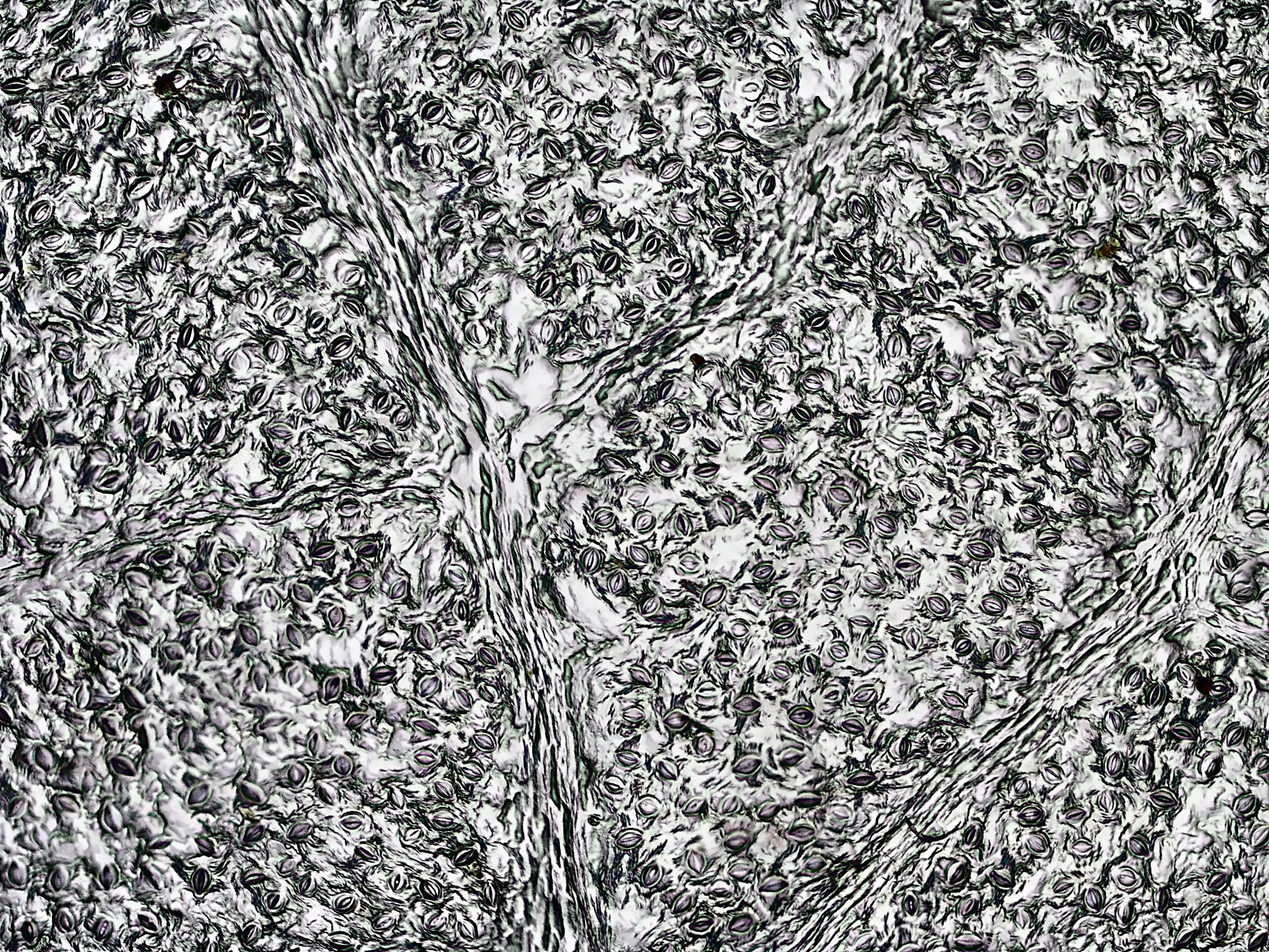stomata: (1154, 282, 1191, 309), (319, 672, 346, 705), (31, 414, 54, 452), (462, 320, 491, 350), (1183, 262, 1211, 293), (122, 567, 153, 595), (235, 778, 267, 805), (846, 191, 872, 224), (929, 362, 963, 387), (651, 451, 681, 479), (246, 381, 273, 412), (28, 199, 56, 228), (120, 684, 148, 713), (263, 337, 290, 367), (93, 470, 126, 494), (256, 711, 292, 733), (427, 808, 461, 831), (124, 2, 155, 27), (657, 154, 684, 182), (1221, 309, 1248, 337), (893, 552, 924, 576), (1051, 408, 1075, 439), (107, 753, 138, 777), (327, 335, 355, 361), (186, 780, 212, 808), (84, 443, 117, 465), (130, 314, 159, 339), (225, 348, 250, 377), (950, 433, 981, 456), (1103, 708, 1126, 739), (613, 828, 644, 851), (145, 833, 176, 856), (13, 365, 35, 397), (1121, 436, 1153, 458), (84, 298, 111, 324), (1197, 750, 1223, 777), (500, 60, 524, 89), (1073, 293, 1106, 314), (50, 59, 80, 82), (1148, 786, 1178, 809), (97, 65, 128, 87), (991, 637, 1013, 668), (713, 131, 747, 151), (1135, 392, 1161, 418), (421, 906, 447, 932), (1000, 241, 1027, 266), (702, 581, 727, 608), (100, 227, 124, 255), (301, 383, 322, 415), (763, 68, 793, 90), (189, 272, 214, 298), (454, 286, 479, 312), (635, 794, 662, 818), (469, 164, 498, 186), (842, 535, 871, 557), (1066, 227, 1096, 248), (1126, 352, 1159, 371), (873, 513, 898, 538), (51, 105, 75, 131), (128, 175, 154, 199), (924, 594, 950, 618), (214, 548, 240, 572), (23, 123, 46, 150), (883, 381, 906, 408), (980, 593, 1007, 616), (694, 67, 725, 87), (755, 433, 786, 453), (225, 76, 247, 104), (204, 418, 226, 446), (875, 291, 903, 313), (1086, 344, 1114, 366), (415, 623, 437, 651), (1230, 253, 1252, 281), (966, 538, 994, 560), (849, 684, 877, 706), (38, 230, 67, 251), (1172, 333, 1192, 363), (453, 132, 479, 155), (504, 122, 530, 145), (543, 138, 566, 164), (145, 248, 168, 274), (283, 260, 309, 283), (1085, 30, 1108, 56), (1047, 17, 1070, 43), (535, 272, 558, 298), (943, 507, 969, 530), (1124, 665, 1147, 691), (302, 507, 328, 530), (580, 547, 602, 574), (861, 572, 888, 594), (788, 823, 815, 845), (1197, 70, 1218, 98), (779, 746, 807, 767), (733, 755, 761, 776), (539, 317, 559, 346), (481, 878, 501, 907), (757, 875, 789, 893), (936, 174, 961, 197), (238, 622, 261, 647), (640, 862, 663, 887), (1012, 67, 1038, 89), (998, 573, 1024, 595), (146, 374, 165, 404), (1197, 147, 1224, 168), (1228, 897, 1255, 918), (787, 706, 814, 727), (55, 906, 76, 933), (35, 744, 56, 771), (1170, 721, 1198, 741), (939, 691, 967, 711), (586, 145, 610, 168), (834, 242, 858, 265), (638, 593, 661, 617), (240, 924, 264, 947), (267, 422, 296, 441), (612, 415, 641, 434), (601, 454, 630, 473), (308, 540, 337, 559), (422, 143, 444, 168), (61, 267, 86, 289), (246, 286, 268, 311), (305, 311, 330, 333), (1001, 177, 1026, 199), (1021, 140, 1046, 162), (1103, 751, 1125, 776), (471, 730, 496, 752), (713, 648, 738, 670), (724, 828, 749, 850), (572, 31, 593, 57), (544, 538, 565, 564), (346, 571, 372, 592), (956, 931, 982, 952), (819, 683, 845, 704), (76, 379, 96, 406), (1188, 172, 1215, 192), (286, 622, 306, 649), (1015, 620, 1042, 640), (1146, 682, 1166, 709), (412, 747, 439, 767), (326, 932, 353, 952), (103, 804, 123, 831), (636, 121, 664, 140), (657, 8, 685, 27), (752, 474, 780, 493), (770, 619, 798, 638), (662, 710, 690, 729), (168, 97, 191, 120), (505, 9, 528, 32), (580, 203, 603, 226), (445, 564, 468, 587), (1176, 663, 1198, 687), (671, 889, 693, 913), (528, 69, 549, 94), (422, 102, 447, 123), (589, 105, 614, 126), (340, 298, 365, 319), (963, 161, 984, 186), (519, 239, 540, 264), (715, 500, 736, 525), (375, 628, 400, 649), (902, 626, 923, 651), (1115, 900, 1136, 925), (460, 761, 485, 782), (61, 148, 81, 174), (438, 21, 464, 41), (113, 272, 139, 292), (580, 314, 600, 340), (749, 561, 775, 581), (655, 51, 674, 78), (353, 537, 380, 556), (1018, 804, 1045, 823), (306, 726, 323, 756), (463, 66, 485, 89), (274, 302, 296, 325), (801, 371, 824, 393), (757, 799, 780, 821), (391, 406, 412, 430), (368, 439, 396, 457), (482, 240, 506, 261), (1235, 8, 1263, 26), (678, 552, 702, 573), (767, 522, 795, 540), (608, 571, 629, 595), (369, 666, 397, 684), (794, 790, 822, 808), (319, 782, 340, 806), (457, 917, 478, 941), (136, 910, 160, 931), (1172, 12, 1192, 37), (828, 485, 853, 505), (687, 849, 707, 874), (524, 179, 550, 198), (335, 497, 361, 516), (1232, 92, 1258, 111), (674, 512, 693, 538), (176, 724, 195, 750), (754, 102, 781, 120), (965, 110, 992, 128), (668, 207, 695, 225), (684, 35, 706, 57), (477, 683, 499, 705), (420, 878, 442, 900), (250, 112, 271, 135), (728, 618, 751, 639), (1052, 878, 1075, 899), (48, 26, 72, 46), (0, 77, 30, 93), (179, 324, 199, 348), (875, 248, 895, 272), (892, 161, 916, 181), (971, 15, 995, 35), (970, 398, 994, 418), (990, 868, 1014, 888), (75, 681, 91, 711), (733, 697, 761, 714), (476, 100, 495, 125), (757, 171, 776, 196), (108, 398, 127, 423), (523, 207, 548, 226), (1225, 721, 1244, 746), (902, 891, 921, 916), (728, 914, 753, 933), (683, 796, 708, 815), (340, 814, 365, 833), (712, 227, 738, 245), (1161, 127, 1187, 145), (1049, 368, 1067, 394), (326, 604, 344, 630), (846, 771, 877, 786), (555, 346, 584, 362), (118, 118, 139, 140), (667, 258, 689, 279), (599, 252, 620, 274), (1111, 265, 1133, 286), (634, 511, 655, 533), (657, 759, 679, 780), (4, 115, 27, 135), (237, 224, 260, 244), (1119, 194, 1142, 214), (903, 482, 923, 505), (454, 687, 474, 710), (1208, 678, 1231, 698), (962, 824, 982, 847), (853, 932, 876, 952), (695, 733, 715, 756), (192, 868, 209, 895), (380, 108, 399, 132), (478, 207, 502, 226), (931, 30, 955, 49), (717, 395, 741, 414), (1020, 442, 1044, 461), (864, 643, 888, 662), (1209, 916, 1228, 940), (125, 606, 149, 625), (628, 666, 652, 685), (354, 842, 378, 861), (288, 820, 312, 839), (93, 916, 112, 940), (1080, 105, 1098, 130), (775, 590, 800, 608), (1065, 454, 1090, 472), (1036, 530, 1061, 548), (930, 736, 955, 754), (52, 863, 67, 893), (718, 192, 744, 209), (1123, 223, 1149, 240), (1015, 907, 1032, 933), (371, 914, 397, 931), (693, 116, 714, 137), (1031, 194, 1052, 215), (952, 634, 973, 655), (331, 754, 352, 775), (433, 778, 454, 799), (763, 42, 785, 62), (373, 391, 393, 413), (623, 220, 643, 242), (896, 452, 916, 474), (291, 583, 313, 603), (945, 567, 967, 587), (389, 871, 409, 893), (334, 893, 356, 913), (264, 892, 286, 912), (7, 796, 27, 818), (193, 43, 216, 62), (431, 49, 454, 68), (52, 343, 75, 362), (190, 373, 209, 396), (925, 73, 948, 92), (821, 583, 844, 602), (419, 676, 438, 699), (1043, 764, 1066, 783), (189, 572, 212, 591), (24, 638, 47, 657), (439, 214, 463, 232), (910, 334, 934, 352), (952, 53, 979, 69), (1210, 30, 1228, 54), (974, 313, 1001, 329), (1177, 223, 1195, 247), (803, 854, 827, 872), (412, 718, 439, 734), (616, 749, 640, 767), (983, 150, 1008, 167), (571, 262, 588, 287), (1248, 150, 1265, 175), (1070, 838, 1095, 855), (689, 916, 714, 933), (241, 867, 266, 884), (948, 245, 969, 265), (1042, 254, 1070, 269), (657, 380, 677, 401), (737, 363, 758, 383), (402, 824, 423, 844), (44, 666, 59, 694), (174, 138, 196, 157), (548, 102, 570, 121), (726, 29, 748, 48), (1137, 12, 1156, 34), (390, 578, 409, 600), (1025, 834, 1047, 853), (771, 660, 793, 679), (287, 762, 306, 784), (454, 848, 476, 867), (1154, 885, 1170, 911), (2, 28, 20, 51), (167, 419, 185, 442), (271, 452, 294, 470), (1140, 163, 1158, 186), (623, 304, 646, 322), (452, 599, 470, 622), (1085, 887, 1103, 910), (842, 717, 865, 735), (298, 872, 316, 895), (20, 917, 38, 940), (1209, 210, 1233, 227), (1015, 402, 1039, 419), (1069, 498, 1093, 515), (727, 862, 751, 879), (99, 865, 114, 892), (292, 190, 317, 206), (1135, 97, 1160, 113), (695, 463, 720, 479), (829, 640, 849, 660), (709, 879, 734, 895), (196, 836, 216, 856), (1013, 102, 1034, 121), (594, 509, 615, 528), (1206, 119, 1227, 138), (1235, 795, 1256, 814), (1175, 927, 1196, 946), (947, 863, 966, 884), (186, 220, 208, 238), (340, 408, 358, 430), (1226, 59, 1248, 77), (1096, 790, 1114, 812), (603, 775, 625, 793), (281, 218, 304, 235), (667, 416, 690, 433), (477, 648, 500, 665), (263, 587, 280, 610), (1098, 162, 1114, 186), (696, 681, 720, 697), (389, 786, 405, 810), (768, 338, 788, 357), (630, 544, 649, 564), (1010, 776, 1030, 795), (1129, 836, 1148, 856), (1248, 929, 1267, 949), (143, 441, 161, 462), (755, 399, 776, 417), (960, 895, 978, 916), (893, 734, 908, 759), (923, 281, 940, 303), (845, 414, 862, 436), (1019, 504, 1041, 521), (802, 653, 819, 675), (886, 334, 902, 357), (1044, 334, 1067, 350), (1098, 403, 1121, 419), (176, 608, 199, 624), (287, 662, 303, 685), (207, 637, 223, 660), (1208, 871, 1227, 890), (1118, 868, 1137, 887), (91, 109, 109, 129), (793, 404, 813, 422), (917, 396, 937, 414), (278, 857, 298, 875), (241, 177, 258, 198), (101, 717, 118, 738), (623, 707, 645, 723), (99, 639, 121, 655), (208, 149, 223, 172), (961, 476, 984, 491), (345, 712, 368, 727), (342, 268, 361, 286), (720, 796, 739, 814), (265, 145, 285, 162), (849, 614, 871, 629), (1068, 176, 1086, 194), (1017, 293, 1035, 311), (702, 434, 720, 452), (643, 235, 660, 254), (244, 823, 263, 840), (972, 273, 992, 289), (1138, 753, 1153, 774), (1064, 807, 1086, 821), (153, 550, 173, 565), (921, 213, 942, 227), (1205, 644, 1226, 658), (1121, 315, 1140, 330), (680, 657, 699, 672), (655, 278, 669, 297), (253, 668, 264, 692), (809, 315, 827, 329)
